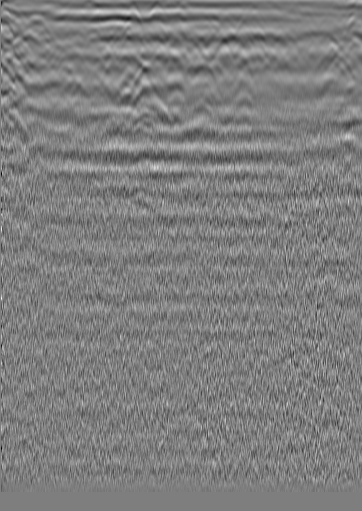가스: (120, 106, 164, 141)
상수: (312, 29, 332, 49)
오수: (18, 27, 38, 47)
우수: (164, 24, 184, 44)
